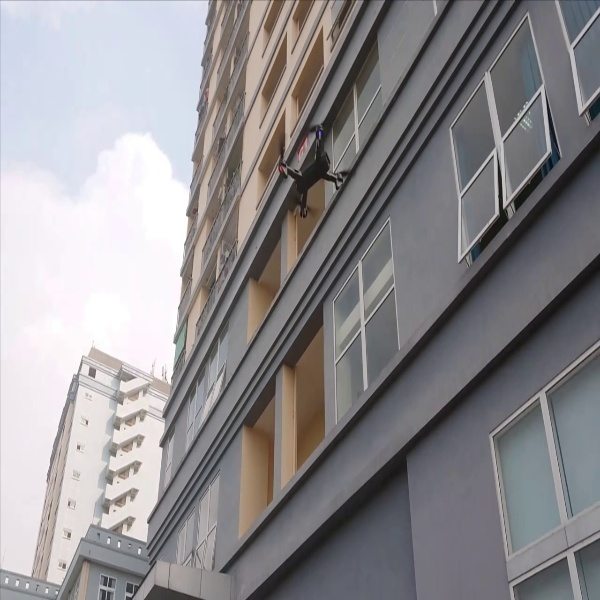drone: (266, 121, 352, 217)
